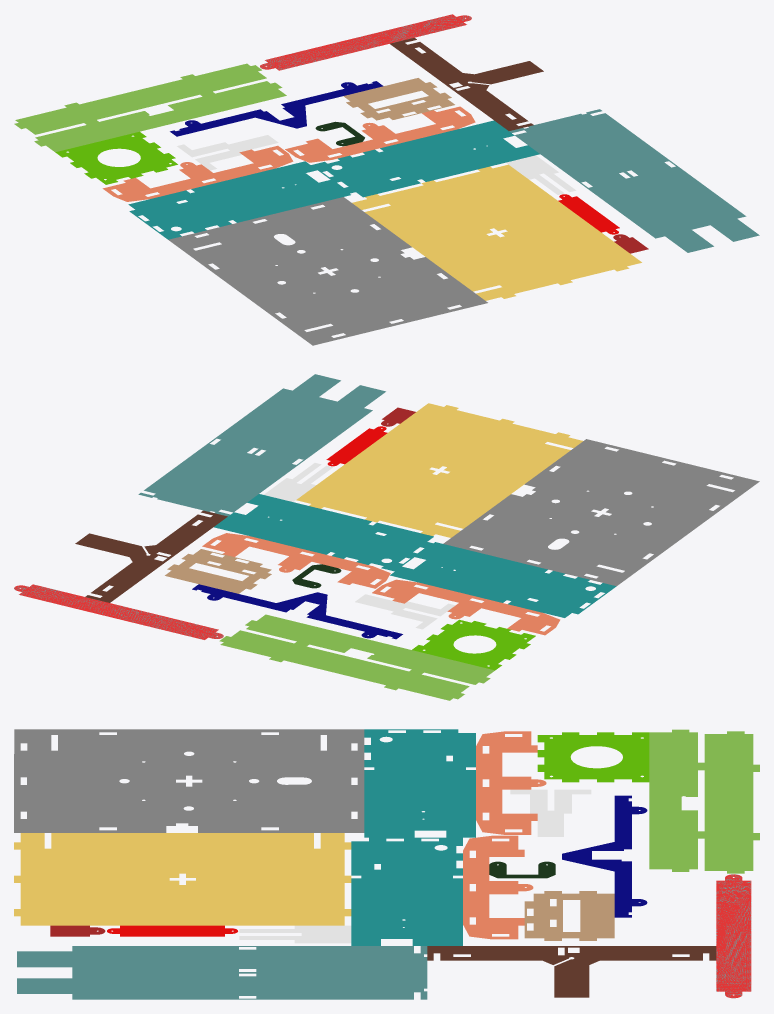
The model's file is Gunbot_Flat_Pack_2D.dae.
3 views of the same model, one above another, from view 1: azimuth 30°, elevation 25°; view 2: azimuth 150°, elevation 25°; view 3: azimuth 270°, elevation 25° (orthographic). The views are drawn at different scales.
Visible parts, largest first — view 1: SketchUp (×15); view 2: SketchUp (×15); view 3: SketchUp (×17).
Part boxes in pixels (x1,y1,x2,y2): SketchUp (×15): (14, 14, 759, 345); SketchUp (×15): (14, 374, 759, 700); SketchUp (×17): (14, 729, 759, 999).
Bounding box in the file's own units: 18.25 × 21.29 × 0.00216.
